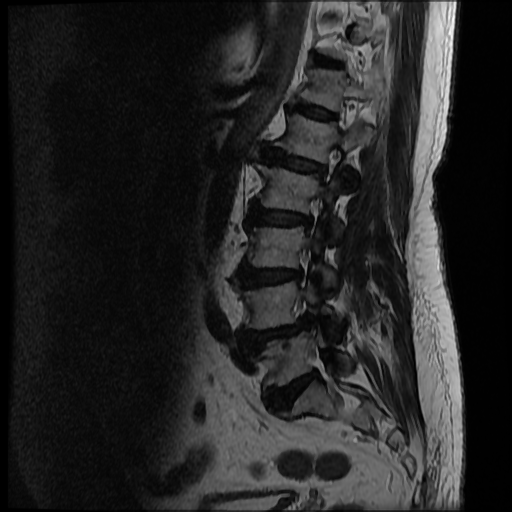LFS0: (308, 137, 351, 192)
